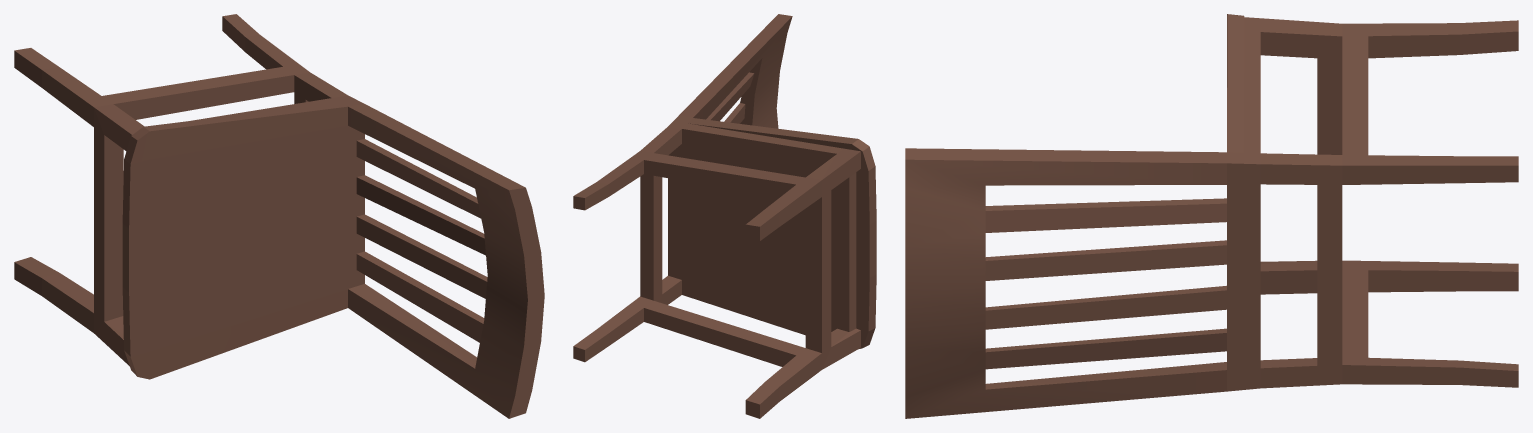
The model's file is 7Jl72KgiRl-.glb.
3 views of the same model, side by side, from view 1: azimuth 30°, elevation 25°; view 2: azimuth 150°, elevation 25°; view 3: azimuth 270°, elevation 25° (orthographic). The views are drawn at different scales.
Parts seen in each view (by area): view 1: polySurface1; view 2: polySurface1; view 3: polySurface1.
Part boxes in pixels (x1=…): polySurface1: x1=14, y1=14, x2=544, y2=418; polySurface1: x1=573, y1=14, x2=876, y2=418; polySurface1: x1=905, y1=14, x2=1518, y2=418.
Size of the model in its own units: 1.16 by 1 by 1.95.
